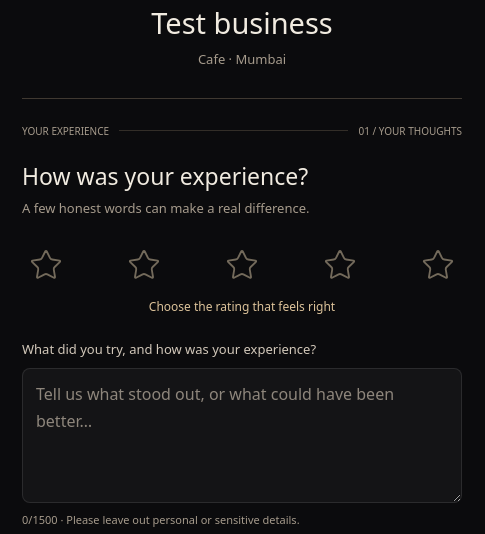
Test: generates, edits and offers a manual clipboard fallback without posting anything
Click the button named "2 stars" at (144, 265), box [120,241,168,289]
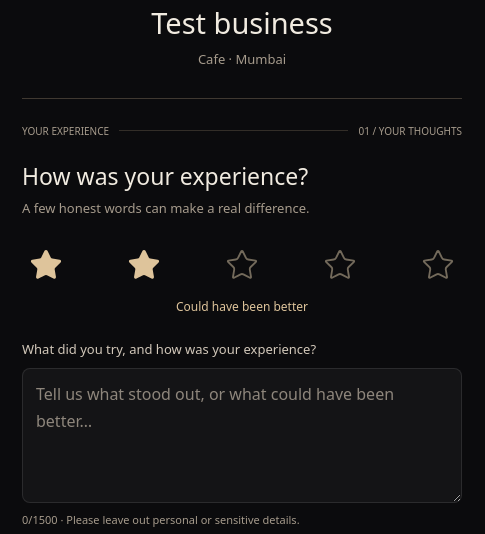
Type "The tea was good, but service was slow." into the text box labelled "What did you try, and how was your experience?" at (242, 435), box [22,368,462,503]
(page scrolled)
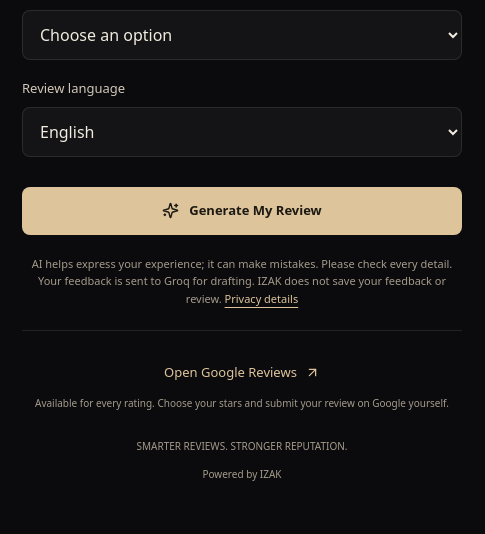
Click the button "Generate My Review" at (242, 211), box [22,187,462,235]
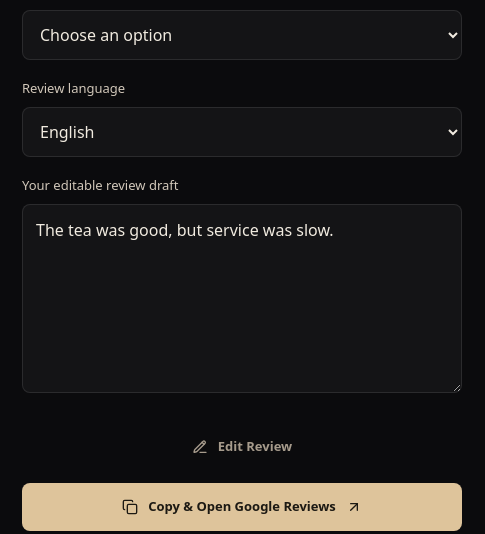
Now the text box labelled "Your editable review draft" is shown
Replace the text in the text box labelled "Your editable review draft" with "The tea was lovely. Service could be quicker." at (242, 298), box [22,204,462,393]
(page scrolled)
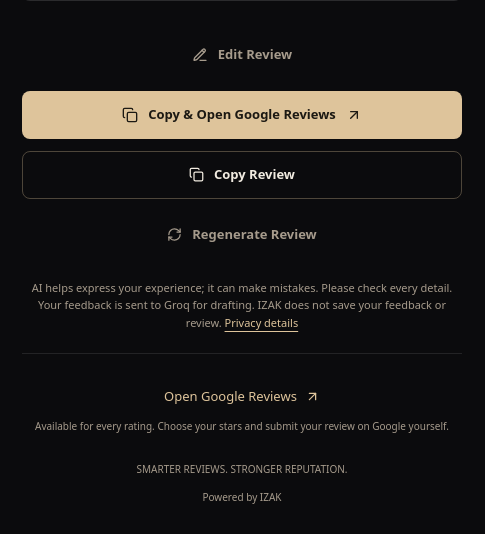
Click the button "Copy Review" at (242, 175), box [22,151,462,199]
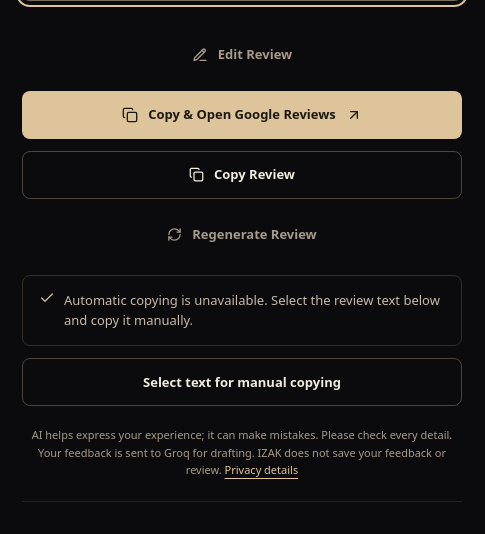
Now the button "Select text for manual copying" is shown, box [22,358,462,406]
